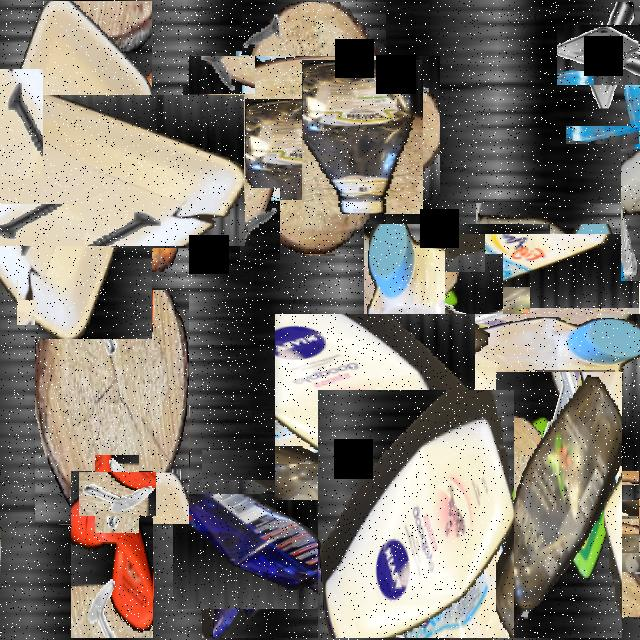glass: (198, 68, 316, 184), (383, 354, 445, 464), (585, 517, 640, 617), (593, 98, 640, 171), (621, 149, 640, 281)
metal: (517, 357, 603, 443), (567, 13, 640, 96), (0, 70, 43, 180), (26, 270, 90, 334), (86, 464, 148, 524), (240, 188, 280, 260)
plastic: (319, 269, 595, 545), (318, 390, 514, 638), (0, 48, 198, 293), (460, 218, 640, 414), (496, 372, 622, 638), (188, 464, 346, 624), (293, 68, 431, 206), (488, 430, 626, 566), (71, 471, 153, 638)
wood: (215, 29, 413, 227), (35, 290, 189, 524), (18, 166, 110, 300), (540, 434, 640, 553), (123, 195, 189, 260), (600, 445, 640, 510)
